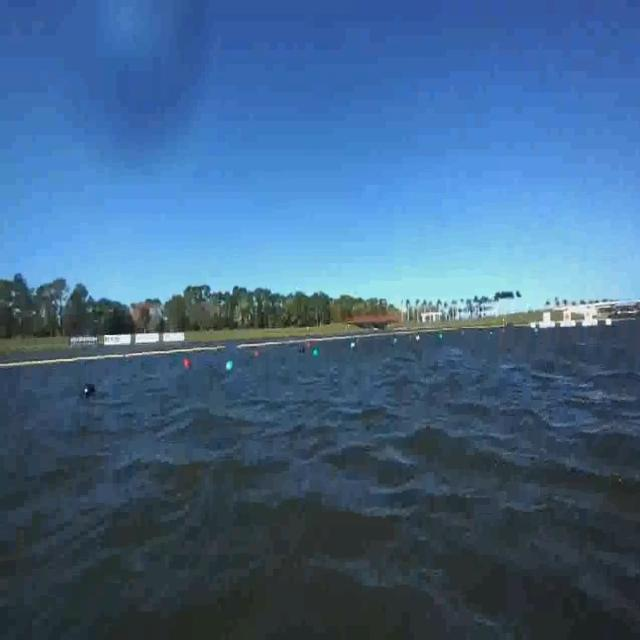black-buoy: (84, 383, 98, 404)
green-buoy: (226, 359, 233, 372)
red-buoy: (180, 354, 196, 376)
